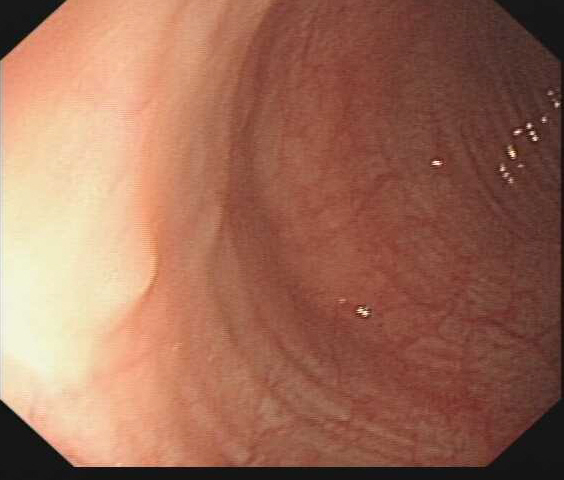others: (96, 222, 160, 336)
